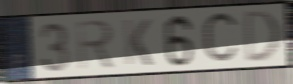3: (39, 21, 69, 73)
6: (162, 13, 195, 68)
C: (201, 9, 241, 68)
D: (243, 8, 282, 66)
K: (121, 18, 154, 68)
R: (75, 18, 116, 73)
